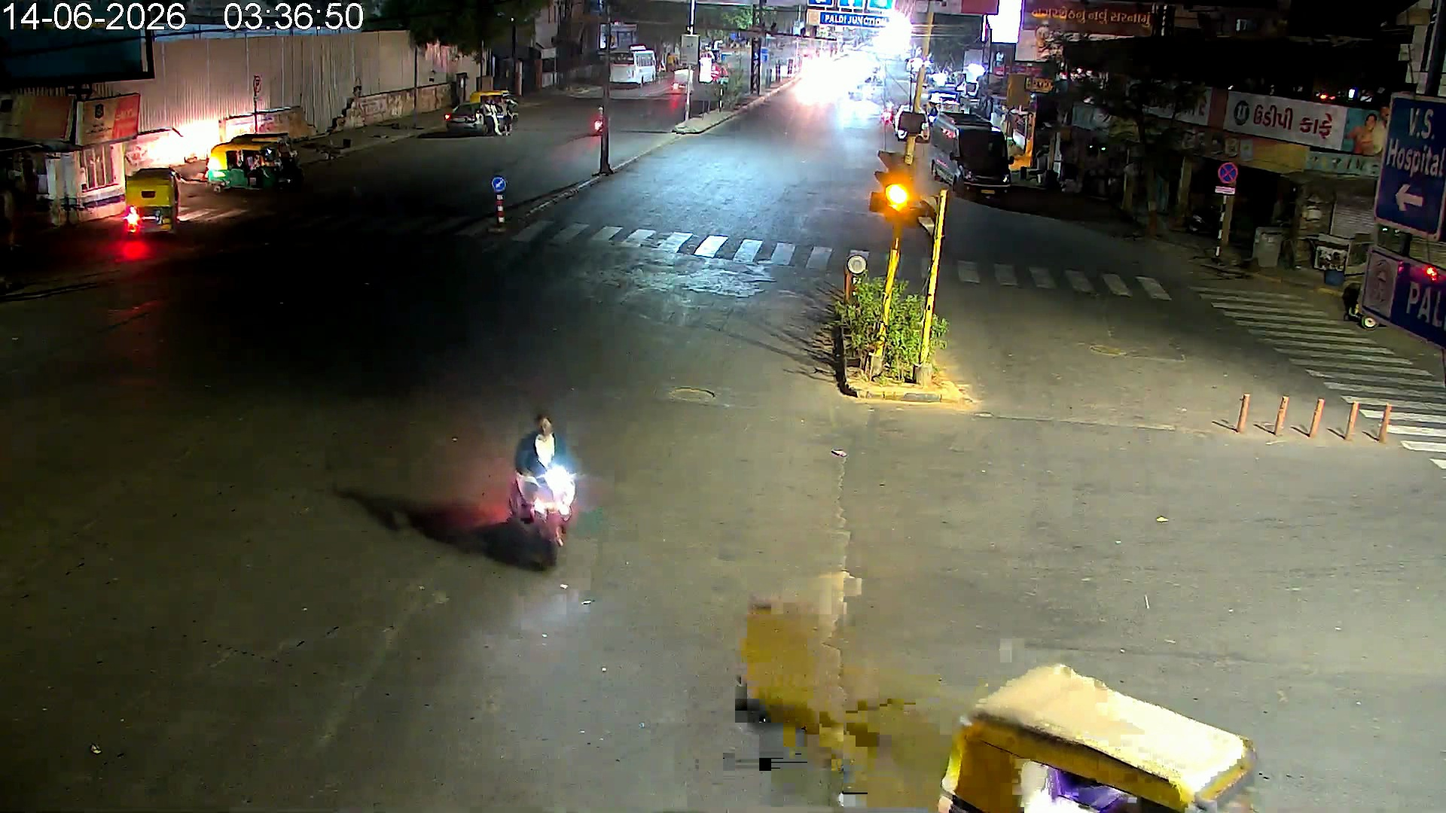auto_rickshaw: (938, 667, 1269, 809), (205, 133, 305, 193), (121, 171, 182, 235), (443, 89, 520, 137)
bus: (927, 113, 1017, 207)
two_wheeler: (499, 404, 591, 558)
